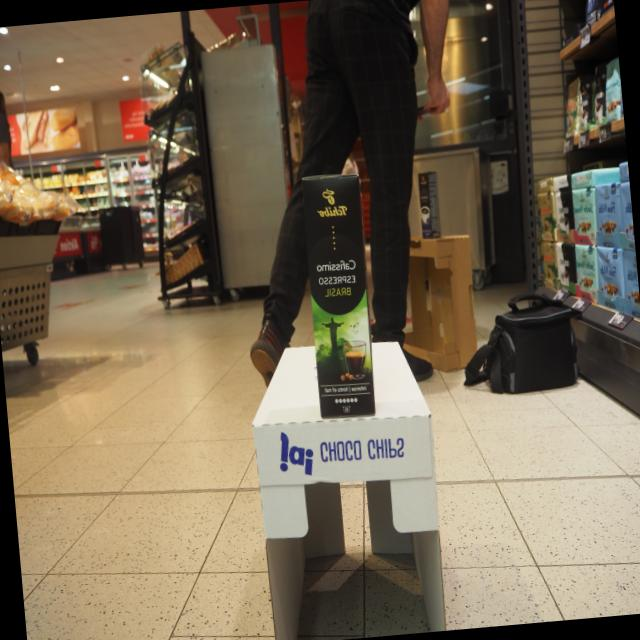Simo Es Brazil: (299, 170, 377, 420)
